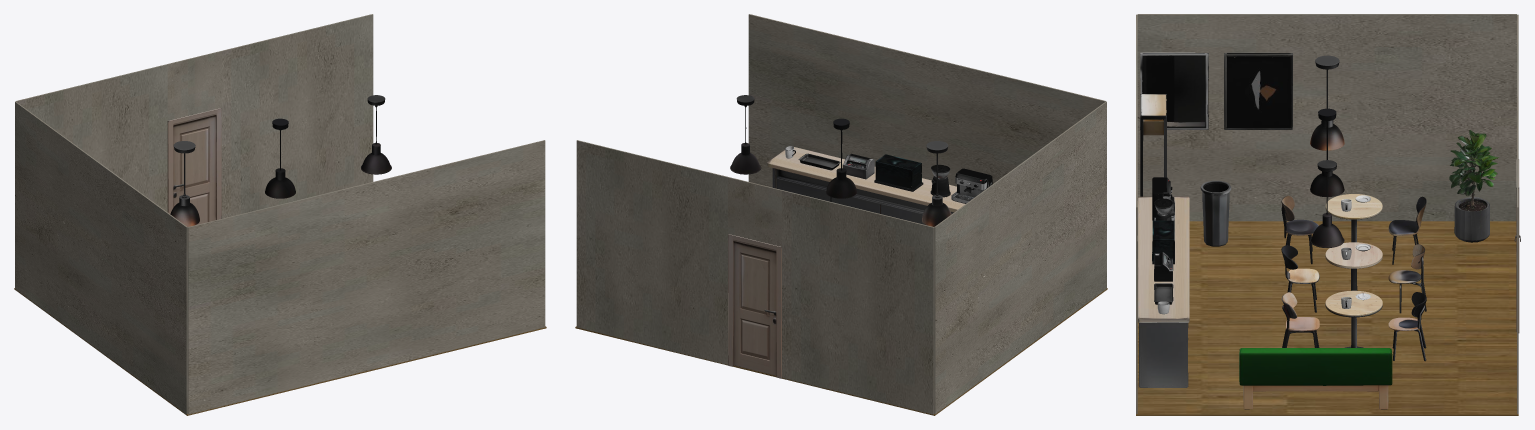
The model's file is text-detailed-cafe.glb.
The picture shows the model from 3 angles, left to right: view 1: azimuth 30°, elevation 25°; view 2: azimuth 150°, elevation 25°; view 3: azimuth 270°, elevation 25°; orthographic projection. The views are drawn at different scales.
Visible parts, largest first — view 1: wall_north_01, wall_east_01, wall_south_01, wall_south_03, geometry_0, wall_south_02, floor_01, geometry_0.005, geometry_0.004, geometry_0.003; view 2: wall_north_01, wall_east_01, wall_south_03, wall_south_01, geometry_0, geometry_0.006, wall_south_02, geometry_0.023, geometry_0.020, geometry_0.005, floor_01, geometry_0.004 (+3 smaller); view 3: wall_east_01, floor_01, geometry_0.006, geometry_0.016, geometry_0.001, geometry_0.002, geometry_0.018, geometry_0.019, geometry_0.017, geometry_0.007, geometry_0.008, geometry_0.009 (+17 smaller).
Part boxes in pixels (x1,y1,x2,y2): wall_north_01: (187, 140, 545, 414); wall_east_01: (15, 101, 187, 414); wall_south_01: (221, 14, 373, 218); wall_south_03: (15, 64, 167, 211); geometry_0: (167, 108, 221, 226); wall_south_02: (167, 51, 221, 120); floor_01: (14, 288, 546, 415); geometry_0.005: (170, 141, 199, 226); geometry_0.004: (265, 118, 295, 198); geometry_0.003: (361, 95, 391, 174); wall_north_01: (748, 14, 1106, 187); wall_east_01: (934, 101, 1106, 414); wall_south_03: (782, 190, 934, 415); wall_south_01: (576, 140, 728, 365); geometry_0: (728, 234, 781, 378); geometry_0.006: (766, 147, 965, 226); wall_south_02: (728, 177, 782, 246); geometry_0.023: (874, 154, 923, 191); geometry_0.020: (951, 168, 992, 203); geometry_0.005: (922, 141, 951, 226); floor_01: (575, 288, 1107, 415); geometry_0.004: (826, 118, 856, 198); wall_east_01: (1137, 14, 1516, 221); floor_01: (1136, 221, 1518, 415); geometry_0.006: (1137, 196, 1189, 387); geometry_0.016: (1239, 348, 1392, 409); geometry_0.001: (1224, 52, 1292, 129); geometry_0.002: (1140, 52, 1208, 129); geometry_0.018: (1449, 130, 1498, 242); geometry_0.019: (1200, 180, 1231, 246); geometry_0.017: (1140, 94, 1166, 196); geometry_0.007: (1325, 290, 1382, 347); geometry_0.008: (1325, 242, 1382, 290); geometry_0.009: (1325, 194, 1382, 242).
Bounding box in the file's own units: 6 × 3 × 5.03.
Materials: 38 (38 with a texture image).
